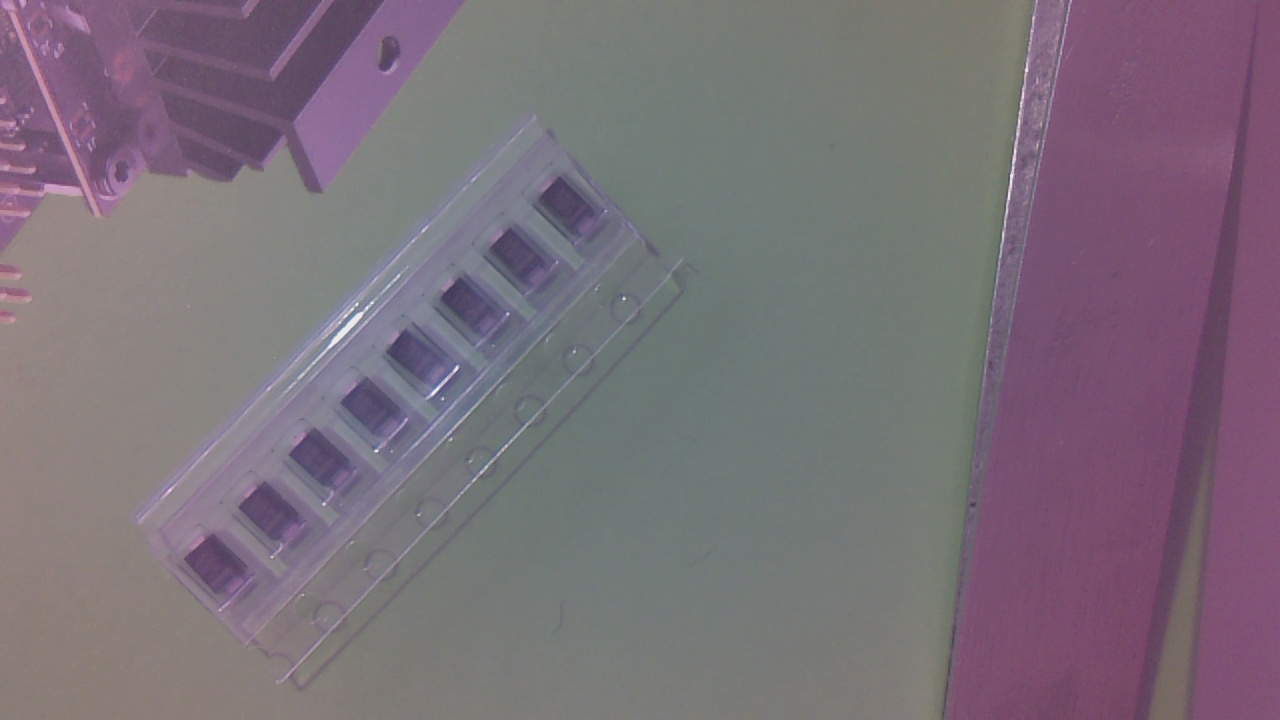Diode: (189, 537, 256, 602), (243, 484, 314, 545), (289, 435, 360, 492), (542, 180, 606, 243), (346, 381, 409, 442), (493, 231, 558, 290), (386, 337, 455, 390), (440, 282, 503, 340)
